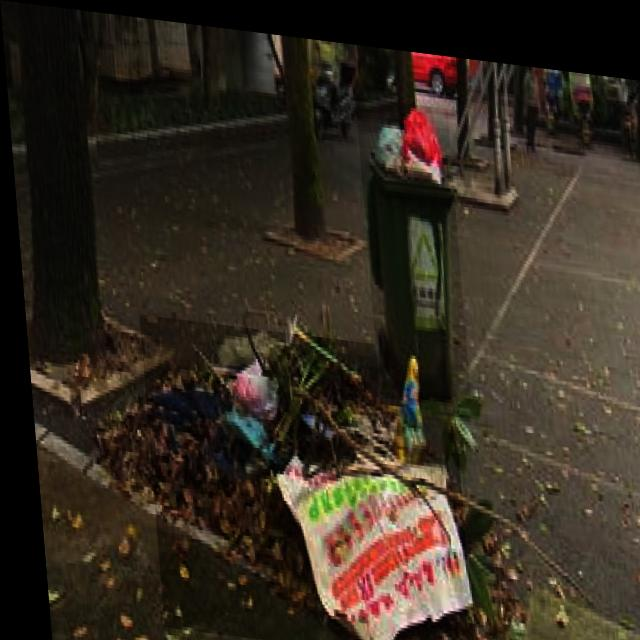garbage: (134, 311, 465, 640)
overflow: (354, 88, 465, 391)
